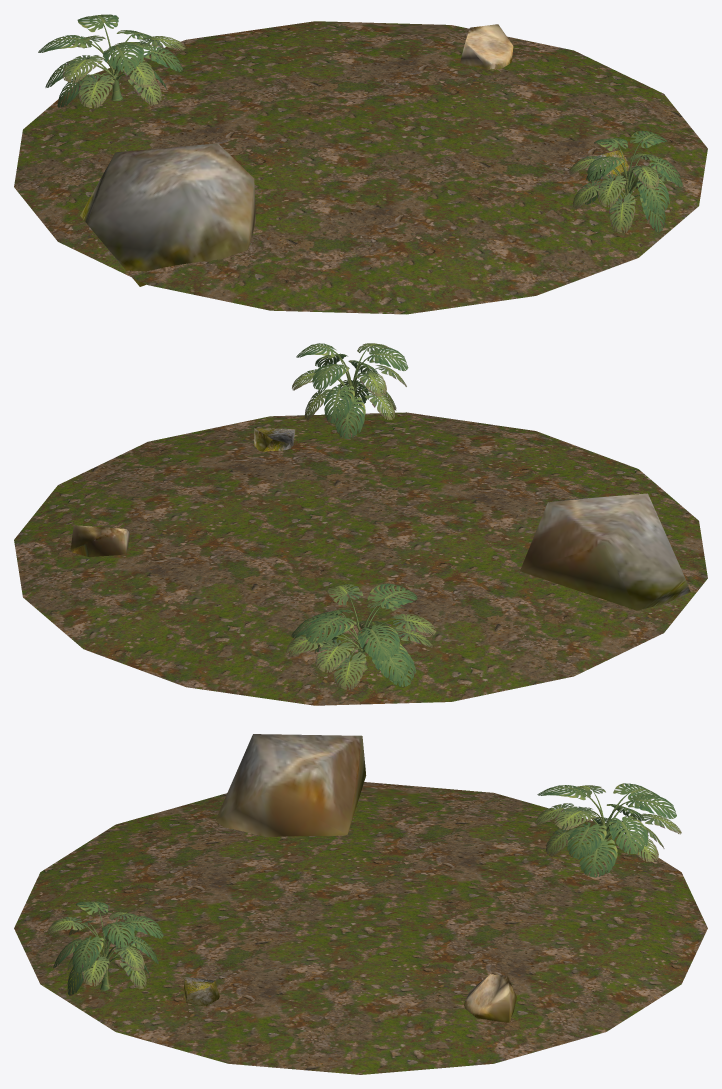
3 renders of one model, top to bottom at view 1: azimuth 30°, elevation 25°; view 2: azimuth 150°, elevation 25°; view 3: azimuth 270°, elevation 25°, orthographic.
Parts seen in each view (by area): view 1: Base, Pedra3.001, Planta2, Planta1, Pedra2.002; view 2: Base, Pedra3.001, Planta2, Planta1, Pedra2.002, Pedra1.002; view 3: Base, Pedra3.001, Planta2, Planta1, Pedra2.002, Pedra1.002.
Boxes of the visible parts, <box> form: Base: <box>14,21,707,314</box>; Pedra3.001: <box>80,143,255,286</box>; Planta2: <box>38,14,185,108</box>; Planta1: <box>569,131,685,233</box>; Pedra2.002: <box>460,24,513,69</box>; Base: <box>14,412,707,705</box>; Pedra3.001: <box>520,493,690,610</box>; Planta2: <box>286,583,436,690</box>; Planta1: <box>292,343,408,438</box>; Pedra2.002: <box>70,525,129,557</box>; Pedra1.002: <box>254,428,295,451</box>; Base: <box>14,782,707,1074</box>; Pedra3.001: <box>215,734,366,837</box>; Planta2: <box>535,783,681,877</box>; Planta1: <box>47,901,163,995</box>; Pedra2.002: <box>463,974,516,1022</box>; Pedra1.002: <box>183,976,219,1006</box>.
Size of the model in its own units: 4.07 by 0.6058 by 4.07.
Materials: 3 (3 with a texture image).
